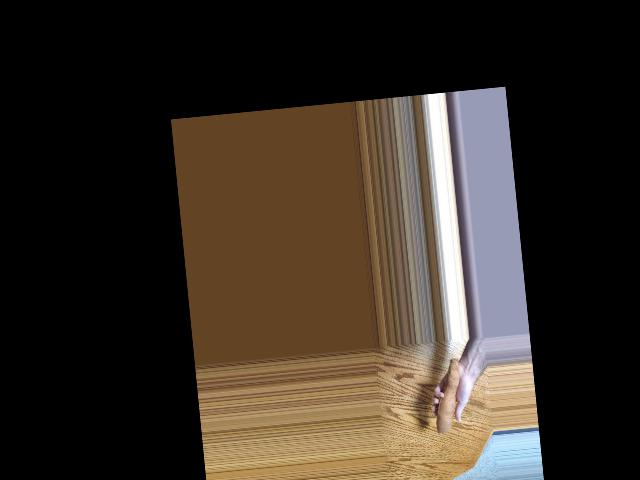sweet_potato: (426, 350, 465, 434)
